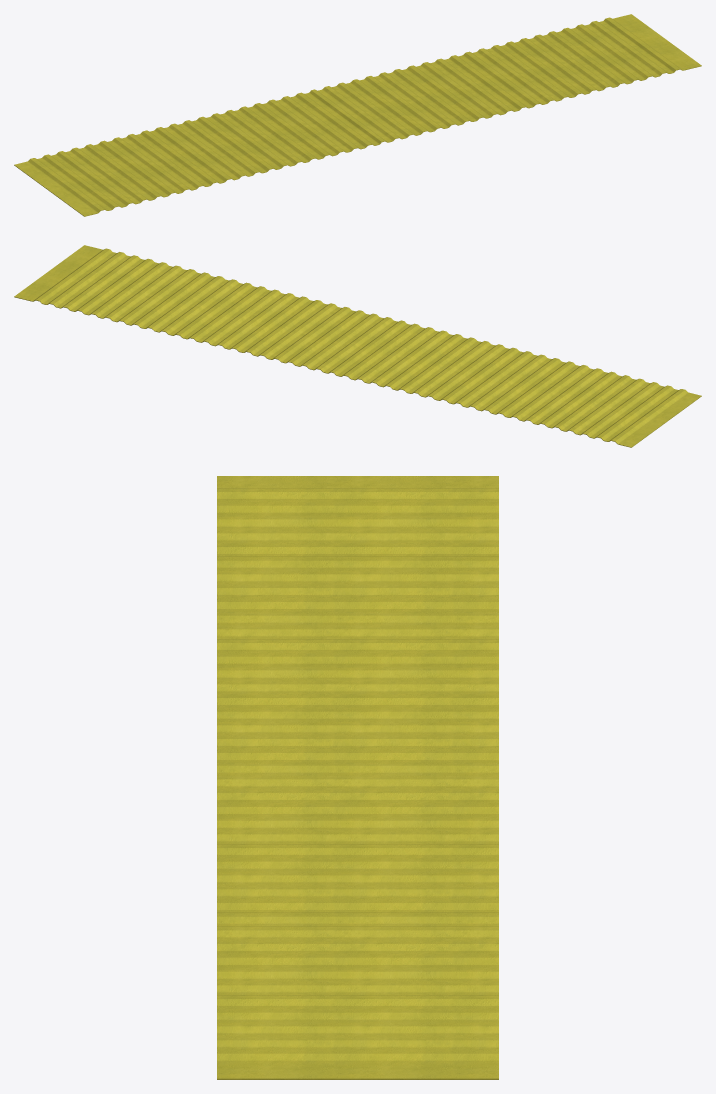
Rendered from ceiling-sprayfoam.glb.
3 views of the same model, one above another, from view 1: azimuth 30°, elevation 25°; view 2: azimuth 150°, elevation 25°; view 3: azimuth 270°, elevation 25° (orthographic). The views are drawn at different scales.
Visible parts, largest first — view 1: 40FT HC Sprayfoam_Ceiling; view 2: 40FT HC Sprayfoam_Ceiling; view 3: 40FT HC Sprayfoam_Ceiling.
Boxes of the visible parts, x1,y1,x2,y2 form: 40FT HC Sprayfoam_Ceiling: (14, 14, 701, 216); 40FT HC Sprayfoam_Ceiling: (14, 245, 701, 447); 40FT HC Sprayfoam_Ceiling: (217, 476, 498, 1079).
Bounding box in the file's own units: 11.98 × 0.0468 × 2.37.
1 material, 1 textured.
